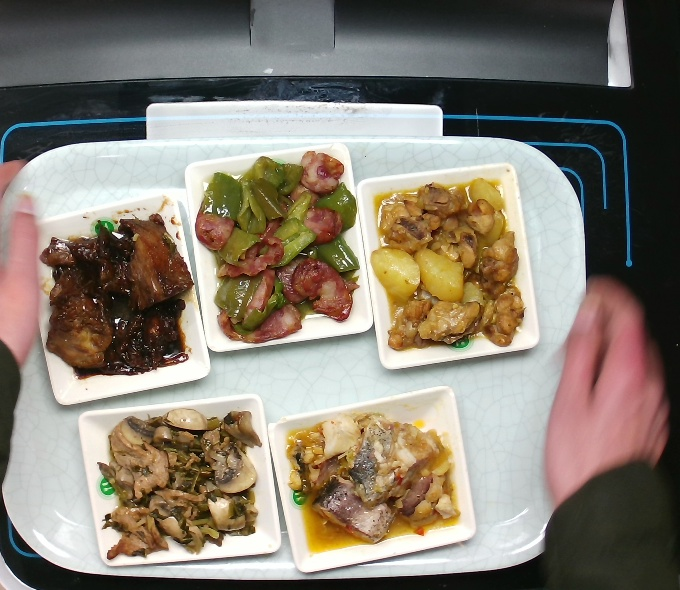wcq-JiangZhiYa: (39, 214, 194, 379)
wcq-MoGuRouPian: (97, 408, 261, 558)
wcq-QingJiaoXiangChang: (194, 149, 361, 344)
wcq-SuanCaiYu: (285, 409, 463, 552)
wcq-TuDouJiKuai: (371, 174, 526, 348)
